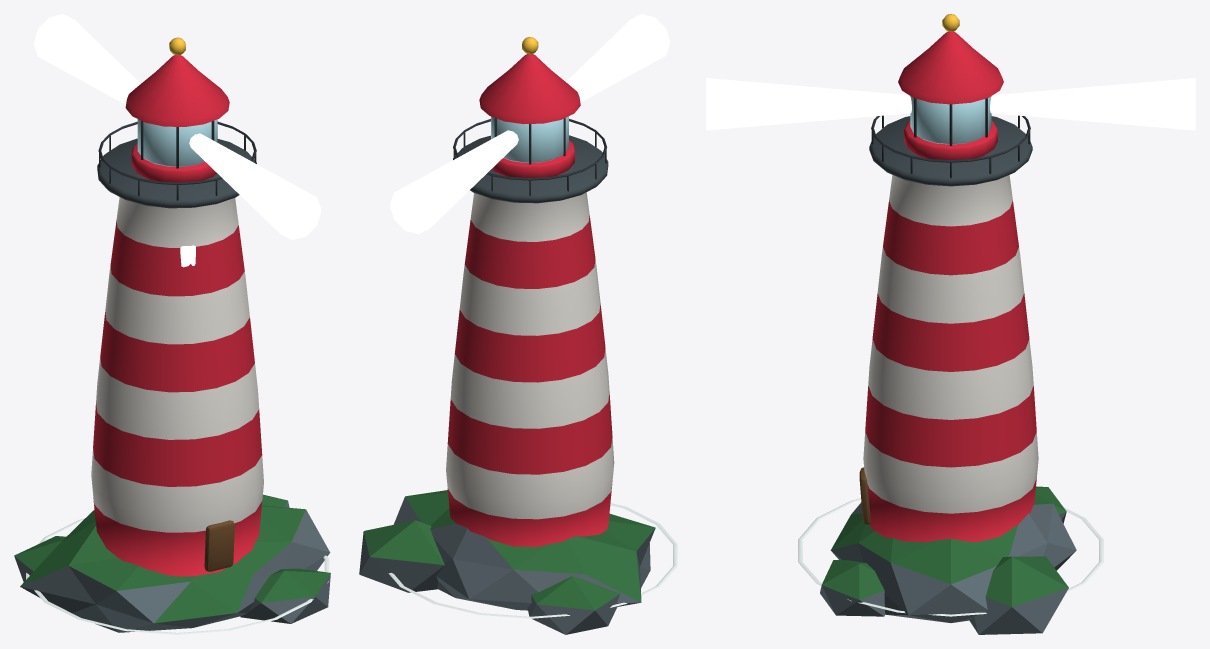
The model's file is W2_Lighthouse.fbx.
3 views of the same model, side by side, from view 1: azimuth 30°, elevation 25°; view 2: azimuth 150°, elevation 25°; view 3: azimuth 270°, elevation 25° (orthographic). The views are drawn at different scales.
Visible parts, largest first — view 1: Static, Beacon; view 2: Static, Beacon; view 3: Static, Beacon.
Part boxes in pixels (bbox=[...]): Static: bbox=[14, 37, 330, 634]; Beacon: bbox=[33, 14, 321, 239]; Static: bbox=[359, 37, 677, 634]; Beacon: bbox=[390, 14, 670, 234]; Static: bbox=[798, 14, 1103, 634]; Beacon: bbox=[706, 78, 1195, 130].
Size of the model in its own units: 15.82 by 30.05 by 24.
